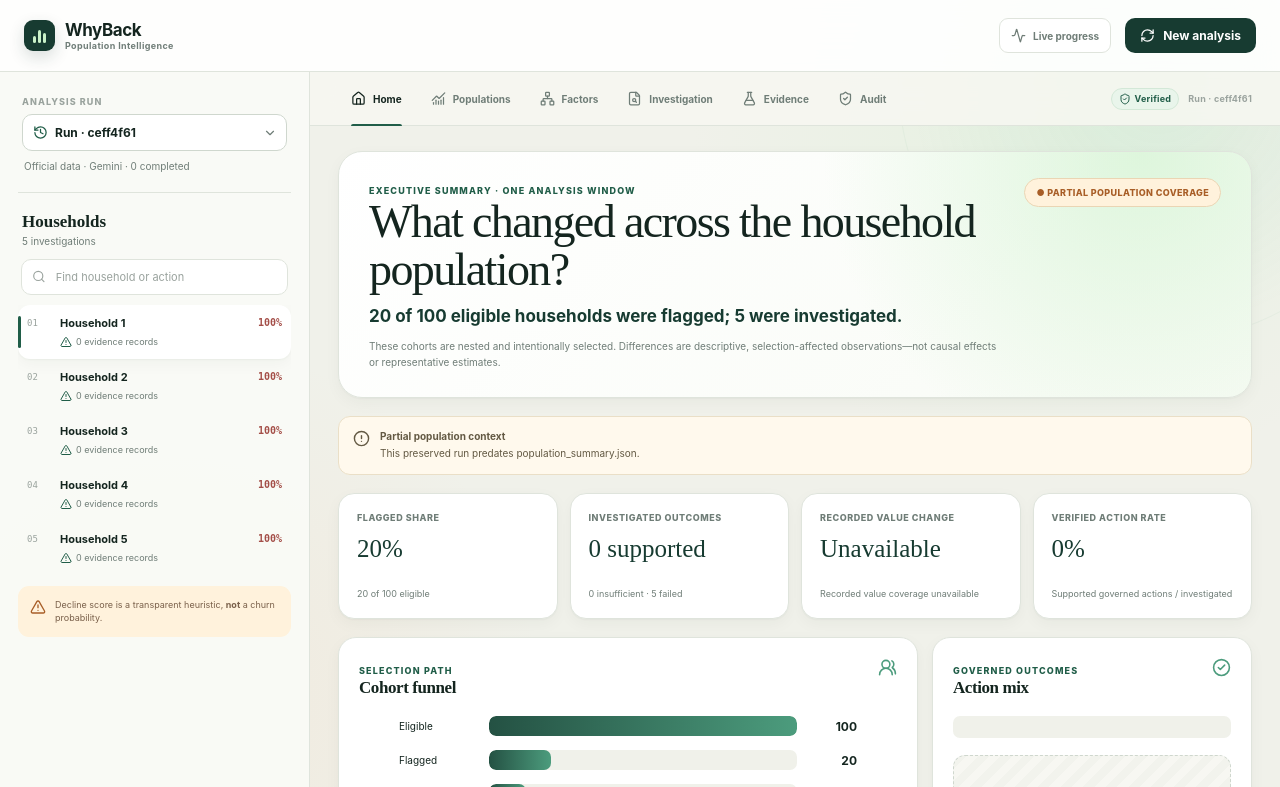
analysis application workflow › preserves the candidate rail and main panel when the bridge rejects a new run
The width and height of the screenshot is (1280, 787).
Check: the dropdown labelled "Analysis run" shows "Run · ceff4f61", box left=22, top=114, right=287, bottom=151
Click the button with aria-label "Start a new analysis" at (1191, 36), box left=1125, top=18, right=1256, bottom=53
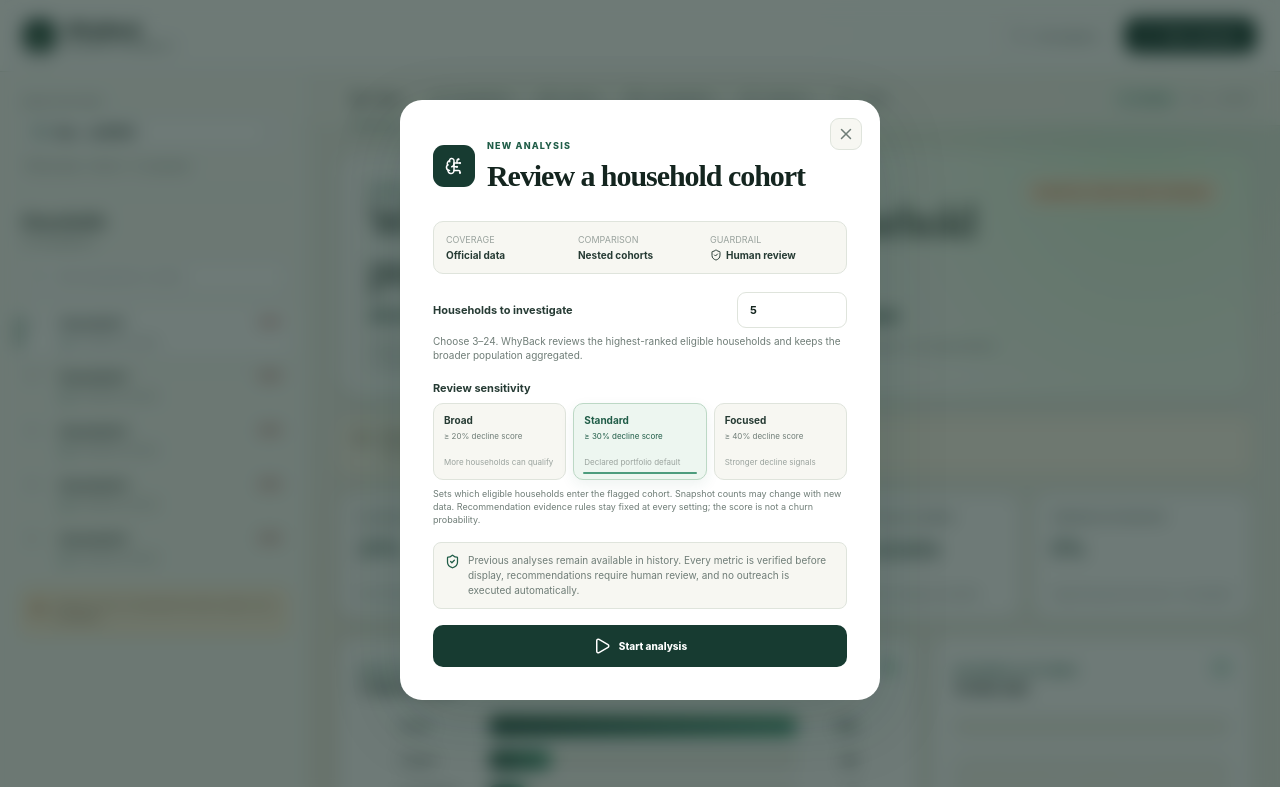
Click the button "Start analysis" at (640, 646), box left=433, top=625, right=847, bottom=667
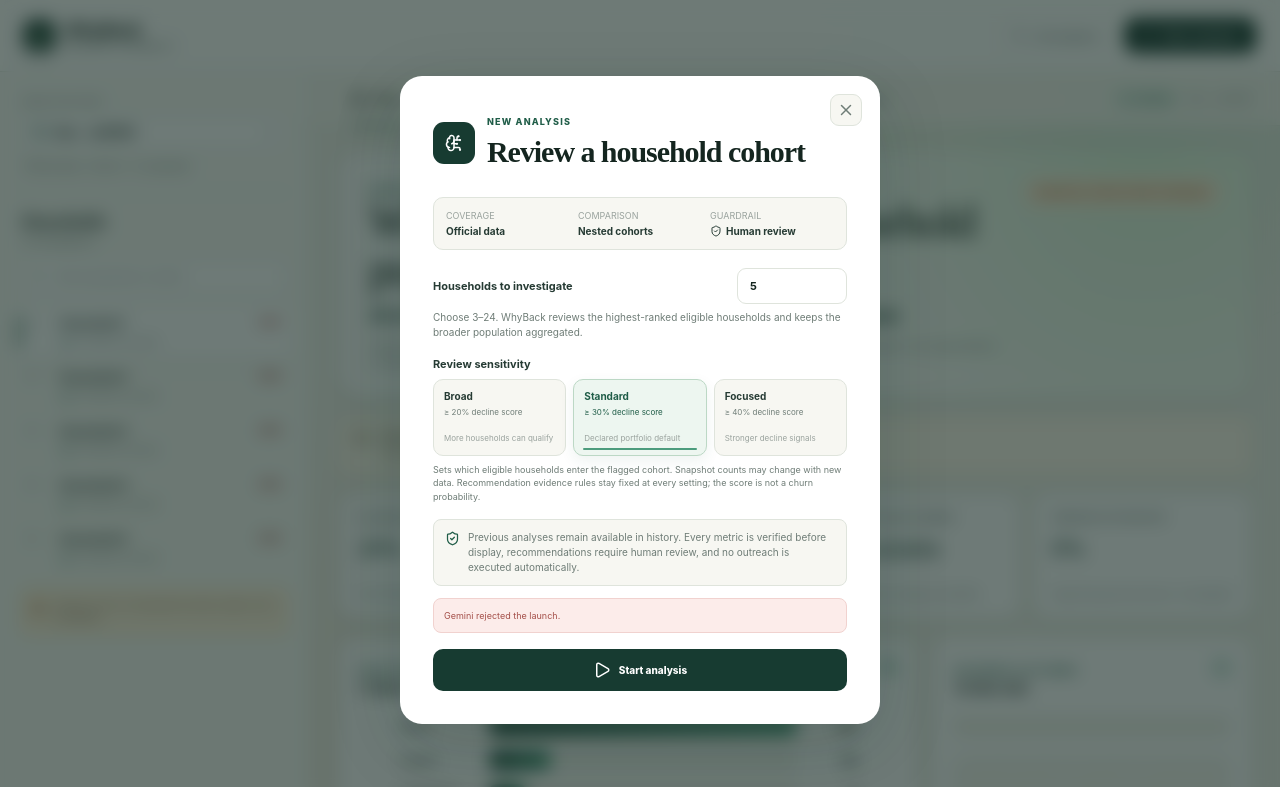
Check: the heading "What changed across the household population?" is shown, box left=369, top=198, right=996, bottom=294
Check: the message reads "Gemini rejected the launch.", box left=444, top=610, right=560, bottom=620
